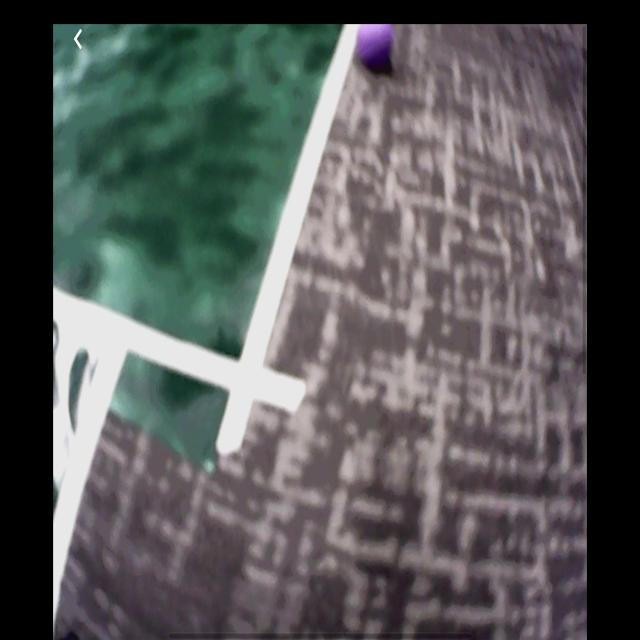ball: (360, 27, 398, 68)
